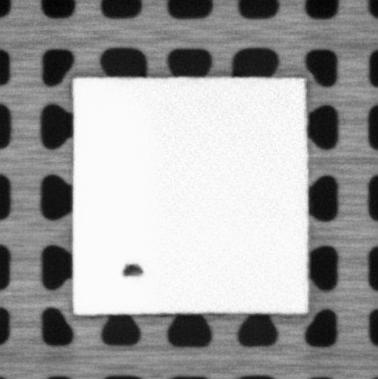DIE_INK: (121, 262, 145, 277)
